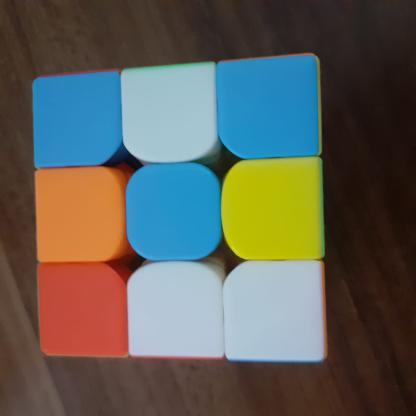cube: (29, 49, 335, 369)
